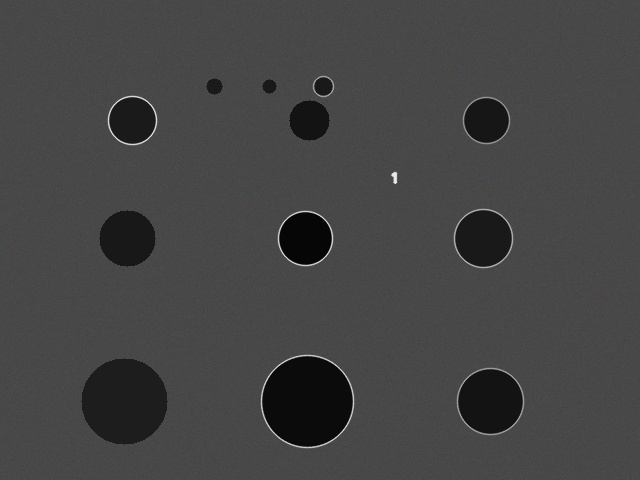hole: (261, 355, 353, 447), (81, 358, 167, 444), (457, 368, 523, 434), (454, 209, 512, 267), (99, 210, 155, 266), (278, 211, 332, 265), (108, 96, 156, 144), (463, 97, 509, 143), (289, 100, 329, 140), (313, 76, 333, 96), (206, 78, 222, 94), (262, 79, 276, 93)
